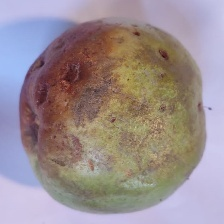guava: (50, 23, 210, 197)
